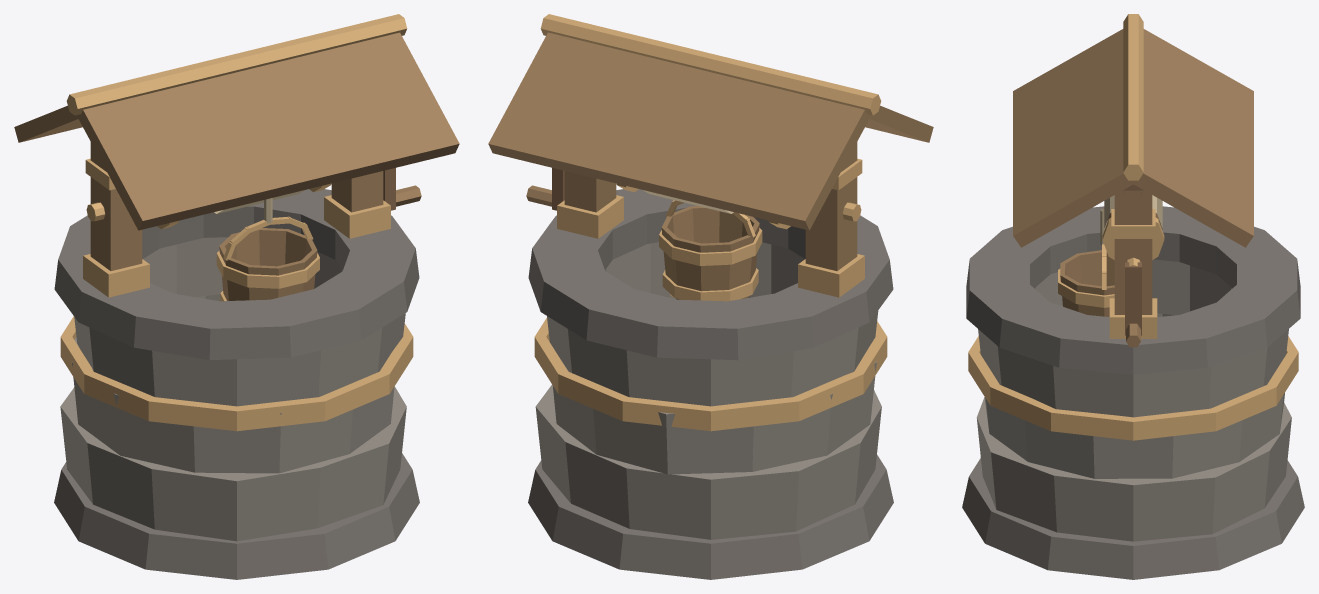
The model's file is well.glb.
The picture shows the model from 3 angles, left to right: view 1: azimuth 30°, elevation 25°; view 2: azimuth 150°, elevation 25°; view 3: azimuth 270°, elevation 25°; orthographic projection. The views are drawn at different scales.
Parts seen in each view (by area): view 1: roof_f, wall_coping, wall_course_1, wall_course_3, wall_base, wall_course_2, wall_band, ridge_cap, bucket, post_l, post_bracket_l, post_bracket_r (+3 smaller); view 2: roof_b, wall_coping, wall_course_1, wall_course_3, wall_base, wall_course_2, wall_band, bucket, ridge_cap, post_l, post_bracket_l, post_bracket_r (+2 smaller); view 3: wall_coping, wall_course_1, roof_b, roof_f, wall_course_3, wall_base, wall_course_2, wall_band, ridge_cap, post_r, bucket, crank_arm (+4 smaller).
Part boxes in pixels (left/top/right/bottom): roof_f: left=77, top=32, right=459, bottom=230; wall_coping: left=54, top=189, right=419, bottom=360; wall_course_1: left=60, top=386, right=406, bottom=541; wall_course_3: left=74, top=237, right=405, bottom=406; wall_base: left=54, top=453, right=419, bottom=579; wall_course_2: left=72, top=294, right=394, bottom=473; wall_band: left=60, top=316, right=413, bottom=431; ridge_cap: left=66, top=14, right=407, bottom=115; bucket: left=216, top=228, right=319, bottom=301; post_l: left=90, top=142, right=142, bottom=270; post_bracket_l: left=83, top=254, right=149, bottom=297; post_bracket_r: left=324, top=195, right=390, bottom=238; roof_b: left=488, top=32, right=870, bottom=230; wall_coping: left=528, top=189, right=893, bottom=360; wall_course_1: left=535, top=384, right=881, bottom=539; wall_course_3: left=547, top=242, right=878, bottom=406; wall_base: left=528, top=455, right=893, bottom=579; wall_course_2: left=552, top=296, right=876, bottom=474; wall_band: left=534, top=318, right=887, bottom=431; bucket: left=659, top=206, right=762, bottom=301; ridge_cap: left=540, top=14, right=881, bottom=115; post_l: left=805, top=142, right=857, bottom=270; post_bracket_l: left=798, top=254, right=864, bottom=297; post_bracket_r: left=557, top=195, right=623, bottom=238; wall_coping: left=966, top=206, right=1300, bottom=374; wall_course_1: left=976, top=397, right=1291, bottom=541; roof_b: left=1129, top=29, right=1253, bottom=247; roof_f: left=1013, top=29, right=1136, bottom=247; wall_course_3: left=978, top=259, right=1288, bottom=417; wall_base: left=962, top=458, right=1304, bottom=579; wall_course_2: left=984, top=313, right=1284, bottom=478; wall_band: left=968, top=336, right=1298, bottom=440; ridge_cap: left=1123, top=14, right=1143, bottom=180; post_r: left=1114, top=190, right=1152, bottom=314; bucket: left=1058, top=250, right=1114, bottom=316; crank_arm: left=1125, top=262, right=1141, bottom=335.
Size of what is drawn, in the model's own units: 1.09 by 1.35 by 1.
